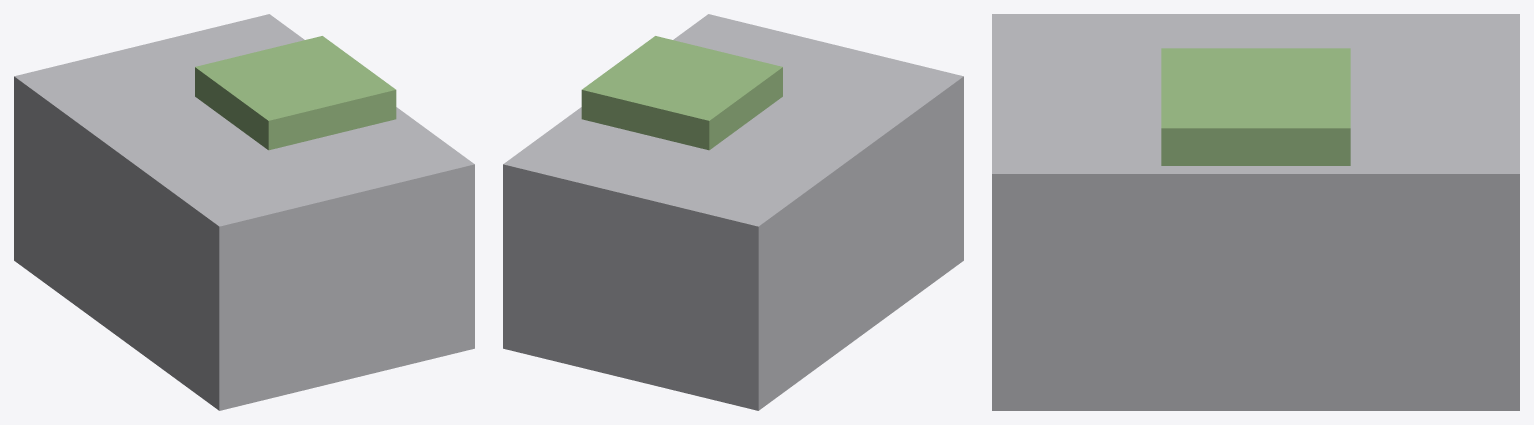
The model's file is Prop_Dress_AMF_Rock_V14.glb.
3 views of the same model, side by side, from view 1: azimuth 30°, elevation 25°; view 2: azimuth 150°, elevation 25°; view 3: azimuth 270°, elevation 25° (orthographic). The views are drawn at different scales.
Parts seen in each view (by area): view 1: Prop_Dress_AMF_Rock_V14; view 2: Prop_Dress_AMF_Rock_V14; view 3: Prop_Dress_AMF_Rock_V14.
Boxes of the visible parts, x1,y1,x2,y2 form: Prop_Dress_AMF_Rock_V14: (14,14,474,410); Prop_Dress_AMF_Rock_V14: (503,14,963,410); Prop_Dress_AMF_Rock_V14: (992,14,1519,410).
Bounding box in the file's own units: 0.91 × 0.728 × 1.27.
